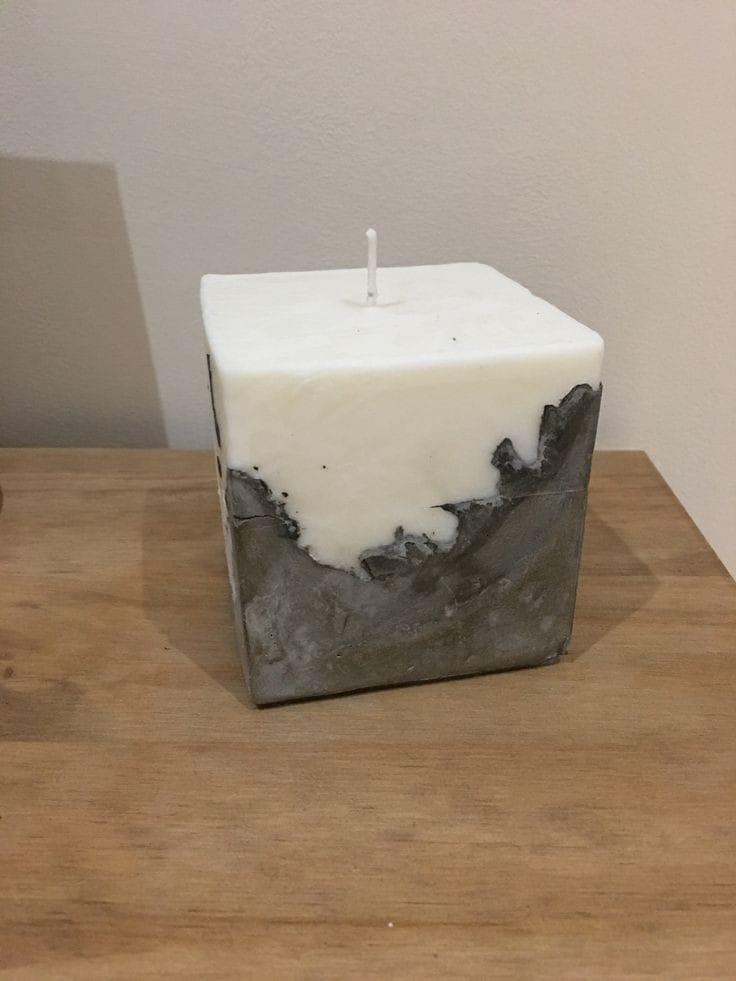cubos: (188, 245, 620, 722)
